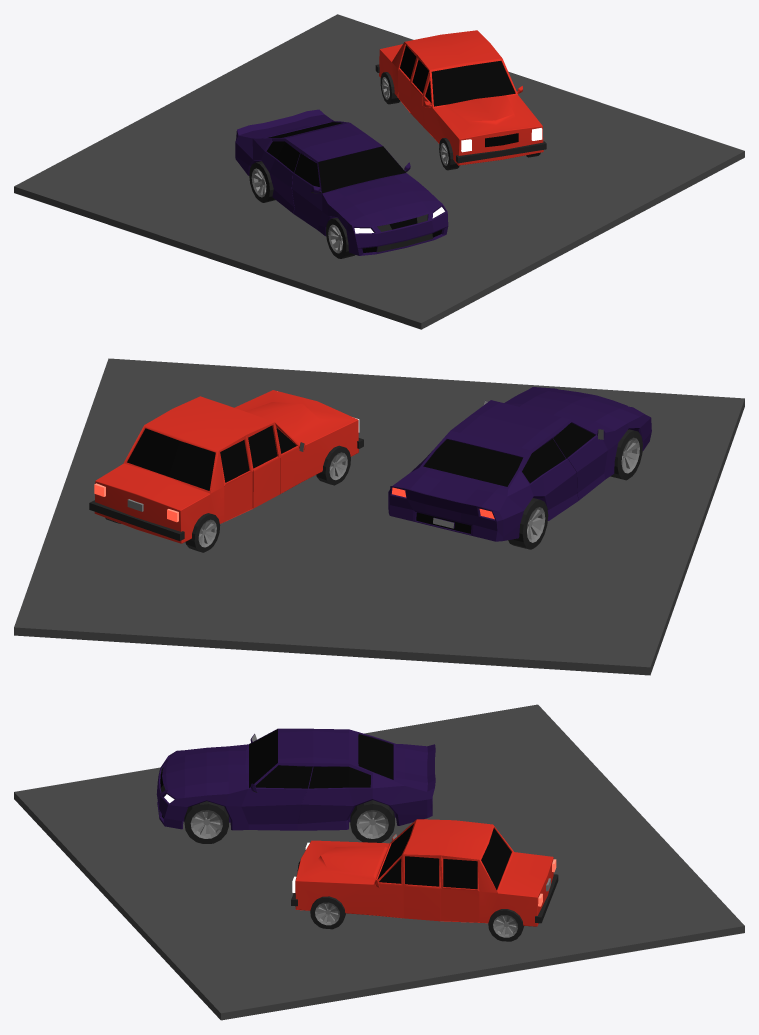
The model's file is two_low_poly_cars.glb.
3 views of the same model, one above another, from view 1: azimuth 30°, elevation 25°; view 2: azimuth 150°, elevation 25°; view 3: azimuth 270°, elevation 25° (orthographic). The views are drawn at different scales.
Visible parts, largest first — view 1: Plane_1, Cube_0, Cube.001_2; view 2: Plane_1, Cube_0, Cube.001_2; view 3: Plane_1, Cube_0, Cube.001_2.
Boxes of the visible parts, <box> form: Plane_1: <box>14,14,744,329</box>; Cube_0: <box>235,109,448,258</box>; Cube.001_2: <box>375,30,546,170</box>; Plane_1: <box>14,358,744,675</box>; Cube_0: <box>388,387,651,549</box>; Cube.001_2: <box>89,390,363,552</box>; Plane_1: <box>14,704,744,1020</box>; Cube_0: <box>156,728,435,843</box>; Cube.001_2: <box>291,819,558,941</box>.
Size of the model in its own units: 9.63 by 1.24 by 9.63.
